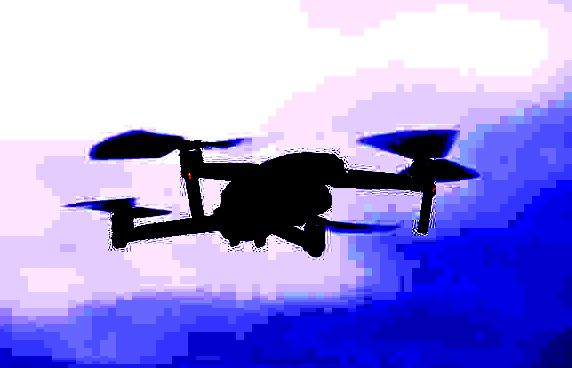Drone: (55, 117, 488, 264)
